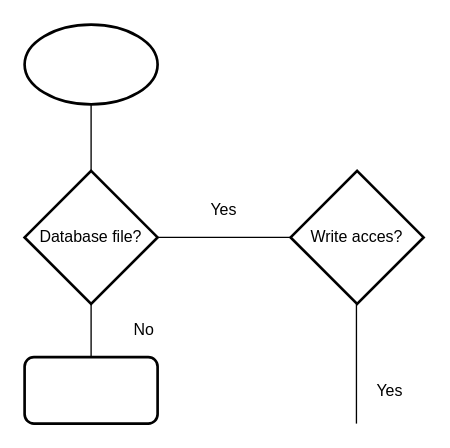
The diagram is 450 pixels wide and 448 high, and some of its shapes have lost their labels. The centre of each missing label's shape, as x and y in pixels:
"create database" goes at [90,389].
"Start" goes at [90,64].
